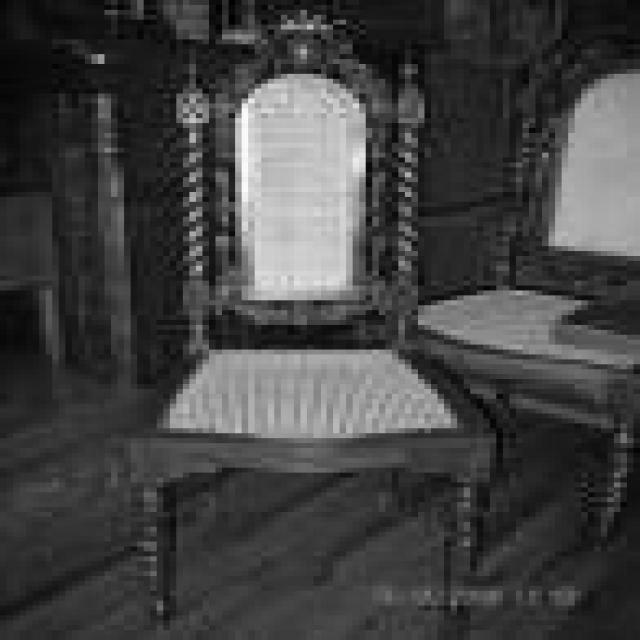chair: (125, 6, 495, 621), (426, 28, 640, 544)
